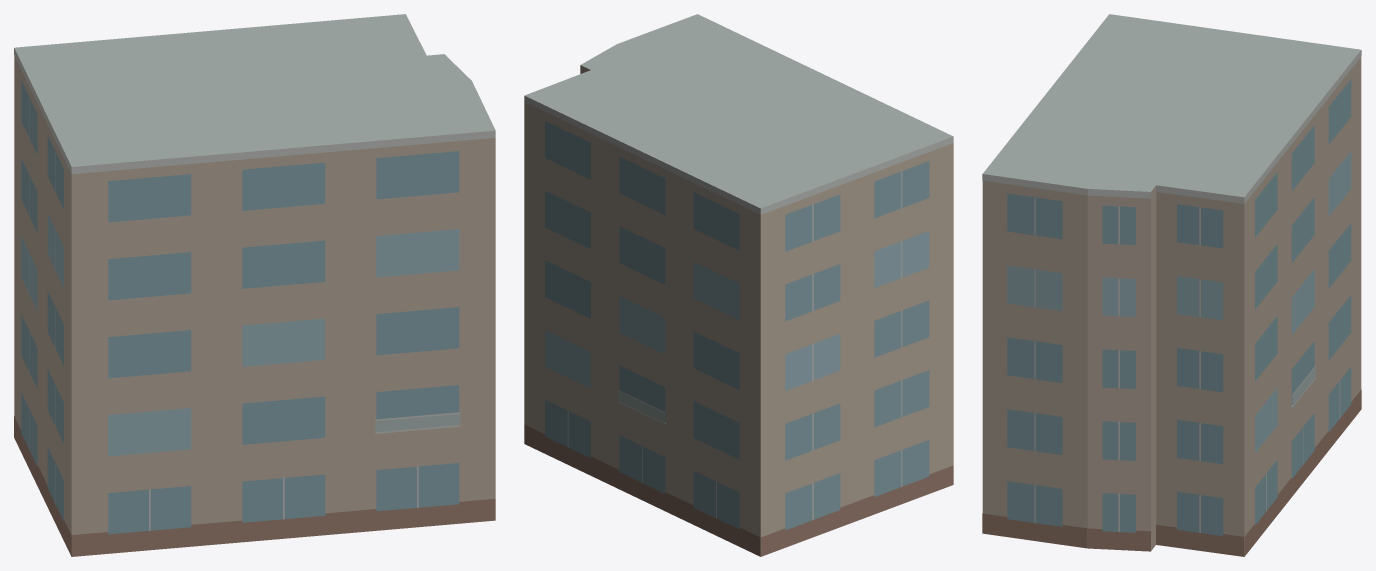
The model's file is survey-upis-32885393.glb.
3 renders of one model, left to right at view 1: azimuth 30°, elevation 25°; view 2: azimuth 150°, elevation 25°; view 3: azimuth 270°, elevation 25°, orthographic. The views are drawn at different scales.
Parts seen in each view (by area): view 1: survey-upis-32885393.tmp; view 2: survey-upis-32885393.tmp; view 3: survey-upis-32885393.tmp.
Boxes of the visible parts, x1,y1,x2,y2 form: survey-upis-32885393.tmp: [14, 14, 495, 556]; survey-upis-32885393.tmp: [524, 14, 953, 556]; survey-upis-32885393.tmp: [982, 14, 1361, 556].
Size of the model in its own units: 14.44 by 13.2 by 12.62.
